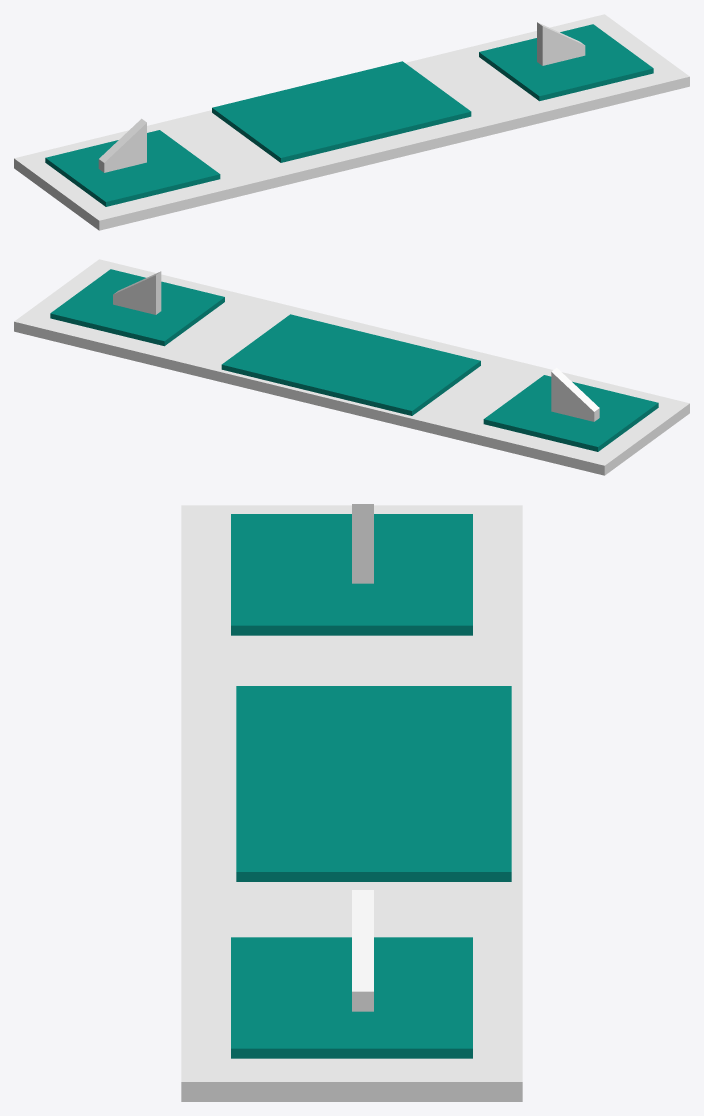
Rendered from group890989404_lev3.glb.
3 renders of one model, top to bottom at view 1: azimuth 30°, elevation 25°; view 2: azimuth 150°, elevation 25°; view 3: azimuth 270°, elevation 25°, orthographic. The views are drawn at different scales.
Parts seen in each view (by area): view 1: group890989404_lev3; view 2: group890989404_lev3; view 3: group890989404_lev3.
Boxes of the visible parts, box(x1,y1,x2,y2) form: group890989404_lev3: box(14, 14, 689, 230); group890989404_lev3: box(14, 259, 689, 475); group890989404_lev3: box(181, 504, 522, 1101).
Size of the model in its own units: 23.27 by 2.06 by 5.82.
